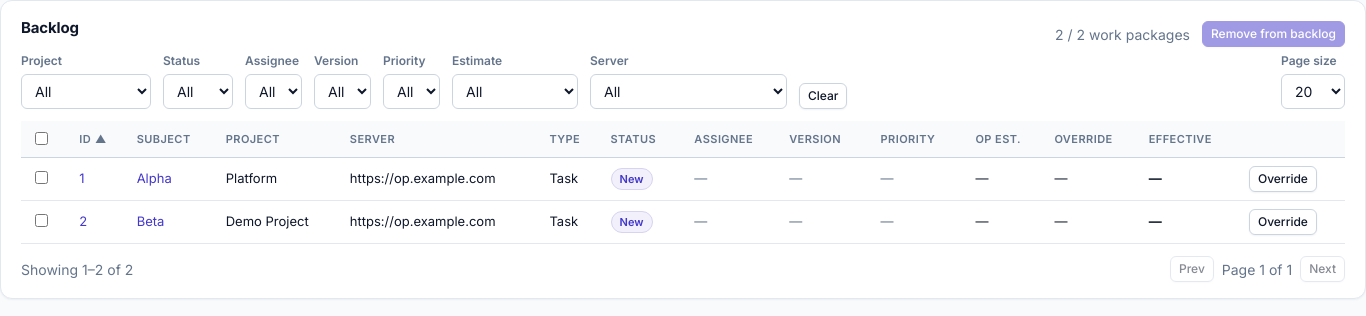
BacklogScreen › shows items from multiple projects and filters by Project
The width and height of the screenshot is (1366, 316).
Check: the link "Alpha" is shown, box [137,170,172,186]
Check: the link "Beta" is shown, box [137,213,164,229]
Note: Filter to one project.
Select "Platform" in the dropdown labelled "Project" at (86, 91), box [21,74,151,108]
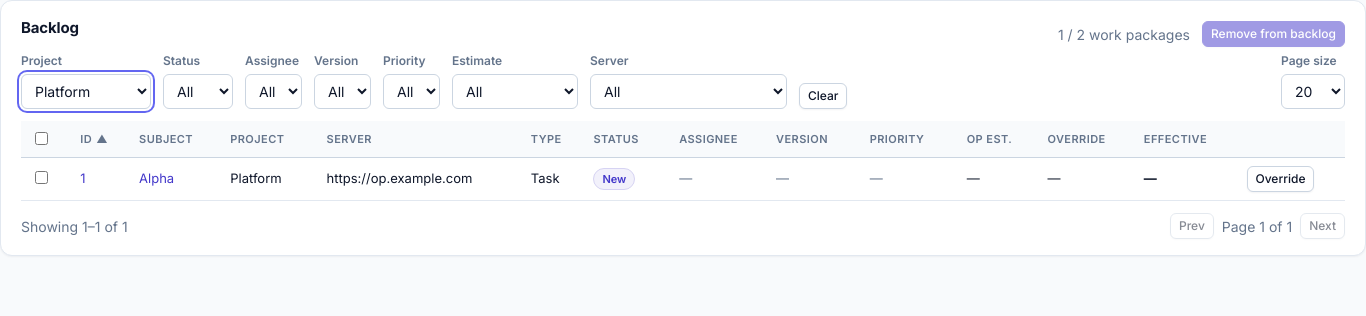
Check: the link "Alpha" is shown, box [139,170,174,186]
Check: the link "Beta" is gone
